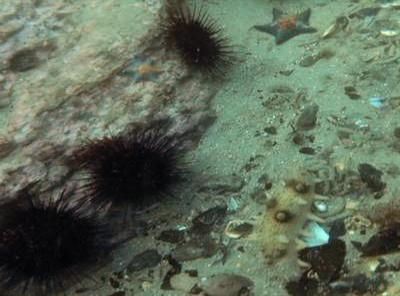urchin: (0, 195, 102, 281), (86, 130, 182, 205), (167, 6, 231, 70)
